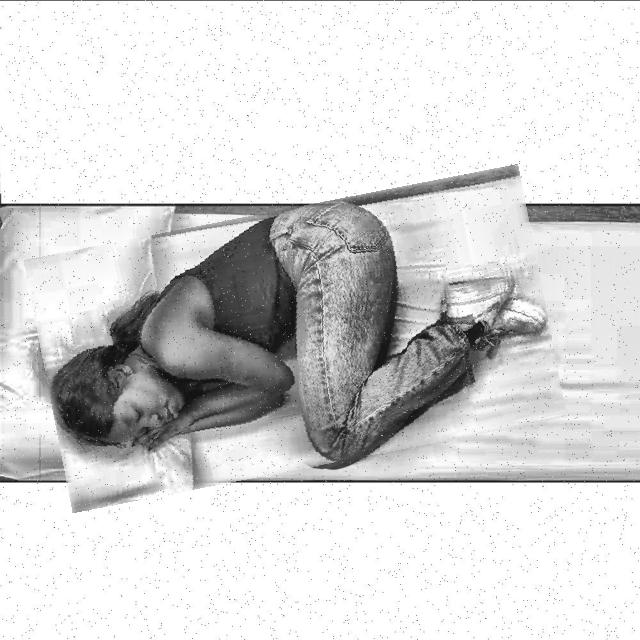Not_Supine: (52, 202, 548, 462)
